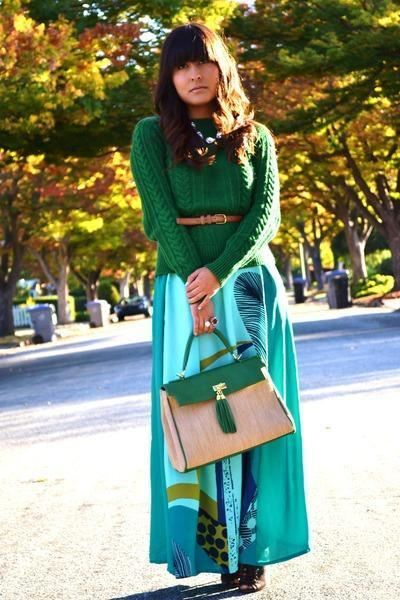bag: (161, 328, 295, 467)
jacket: (125, 113, 286, 284)
skirt: (149, 240, 309, 575)
